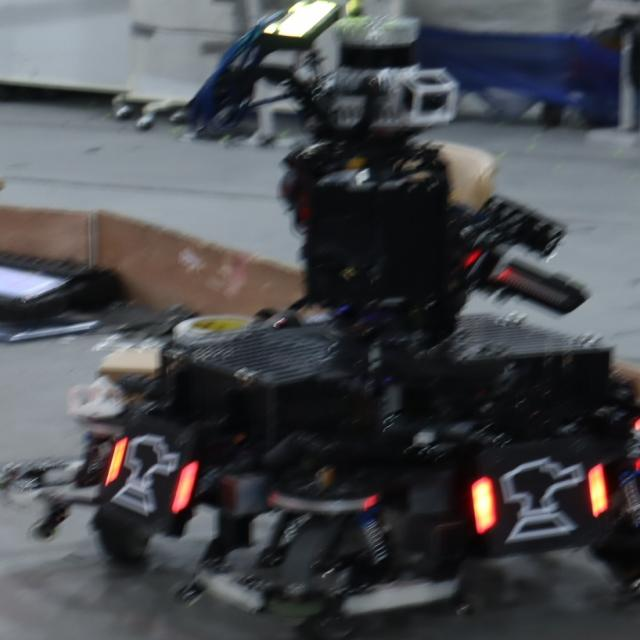Rs: (470, 454, 611, 542), (107, 422, 201, 524)
